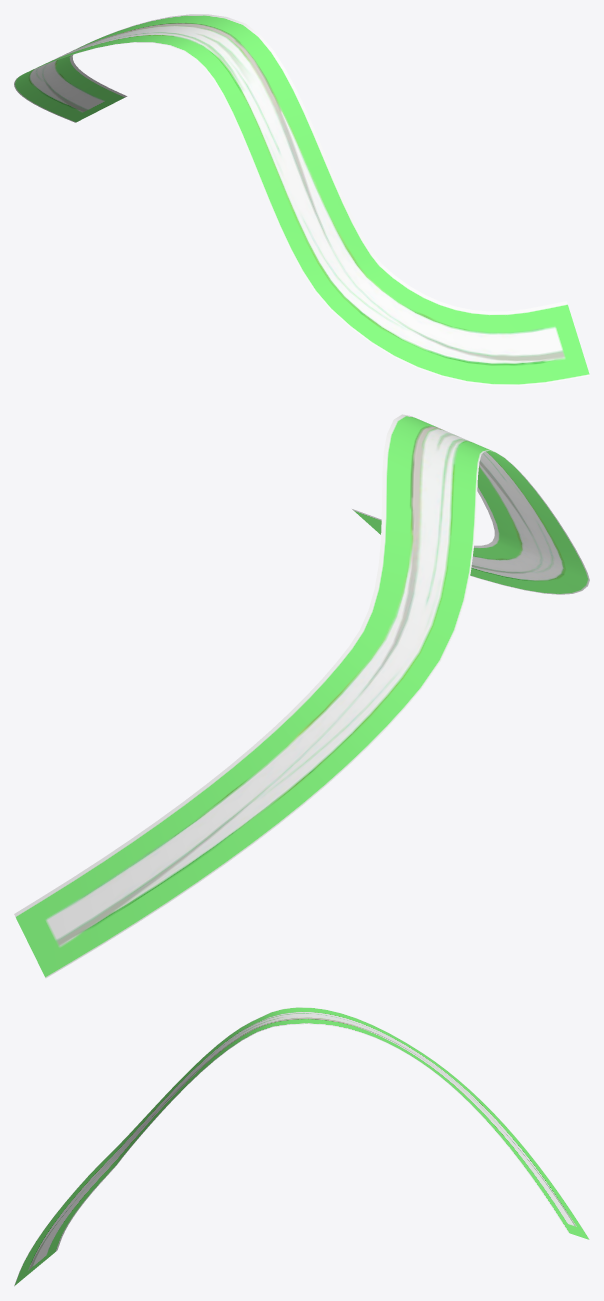
The model's file is piaodai_1.FBX.
The picture shows the model from 3 angles, top to bottom: view 1: azimuth 30°, elevation 25°; view 2: azimuth 150°, elevation 25°; view 3: azimuth 270°, elevation 25°; orthographic projection. The views are drawn at different scales.
Visible parts, largest first — view 1: Plane001; view 2: Plane001; view 3: Plane001.
Part boxes in pixels (left/top/right/bottom): Plane001: left=14, top=14, right=589, bottom=385; Plane001: left=14, top=414, right=589, bottom=978; Plane001: left=14, top=1007, right=589, bottom=1286.
Size of the model in its own units: 97.77 by 82.88 by 218.
